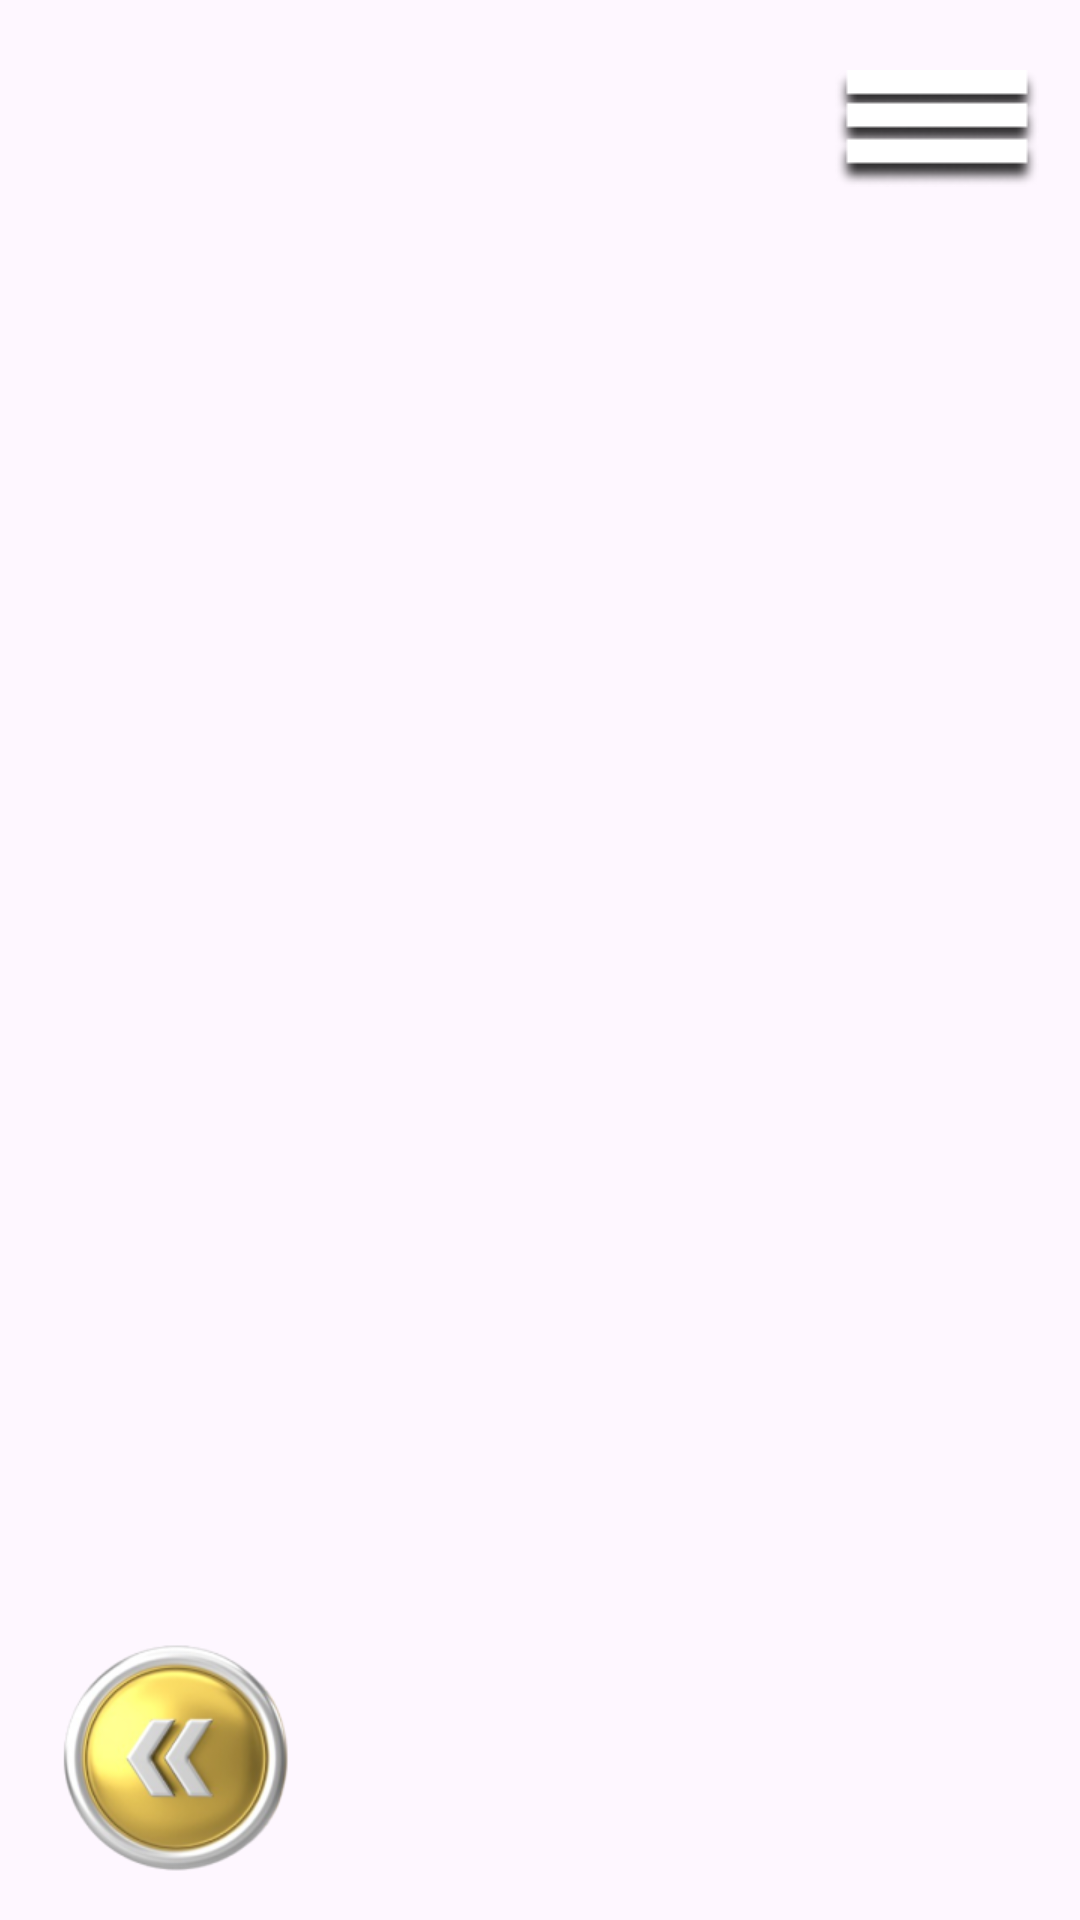

Point at icon controls on the screen. Image size 1080 x 1920, points as [x,y].
back tap: [176,1758]
